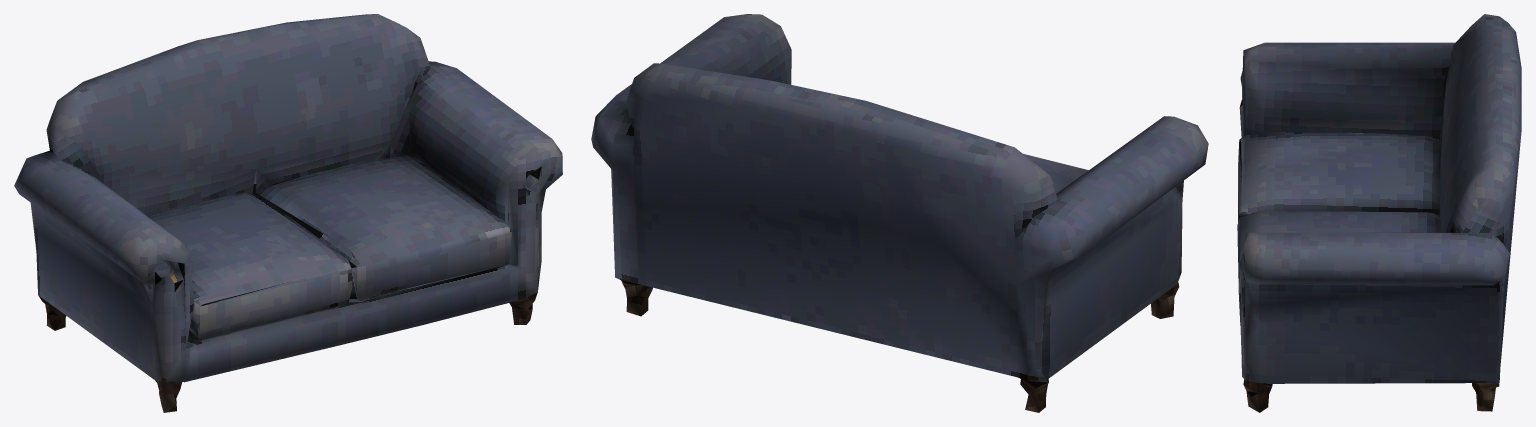
File: sofa.glb
3 views of the same model, side by side, from view 1: azimuth 30°, elevation 25°; view 2: azimuth 150°, elevation 25°; view 3: azimuth 270°, elevation 25° (orthographic). The views are drawn at different scales.
Visible parts, largest first — view 1: low; view 2: low; view 3: low.
Part boxes in pixels (x1=…): low: x1=14, y1=14, x2=562, y2=412; low: x1=591, y1=14, x2=1208, y2=412; low: x1=1237, y1=14, x2=1521, y2=412.
Bounding box in the file's own units: 1.76 × 0.9269 × 0.9775.
1 material, 1 textured.
